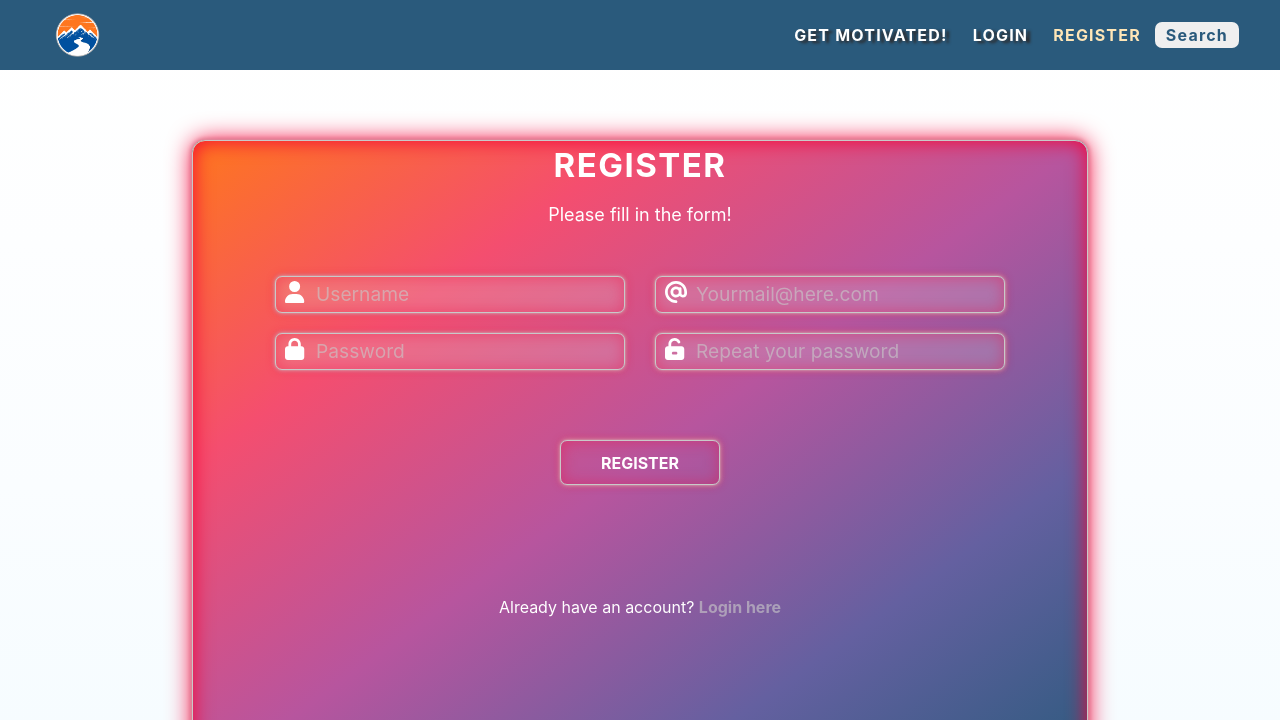
Test: Register Page Unhappy Paths › Show input validation errors on blur › username validation error #2 with more than 12 characters
The width and height of the screenshot is (1280, 720).
Step 1. Type "yellowjackets" into the field with placeholder "Username" → (450,295), box [275,276,625,313]
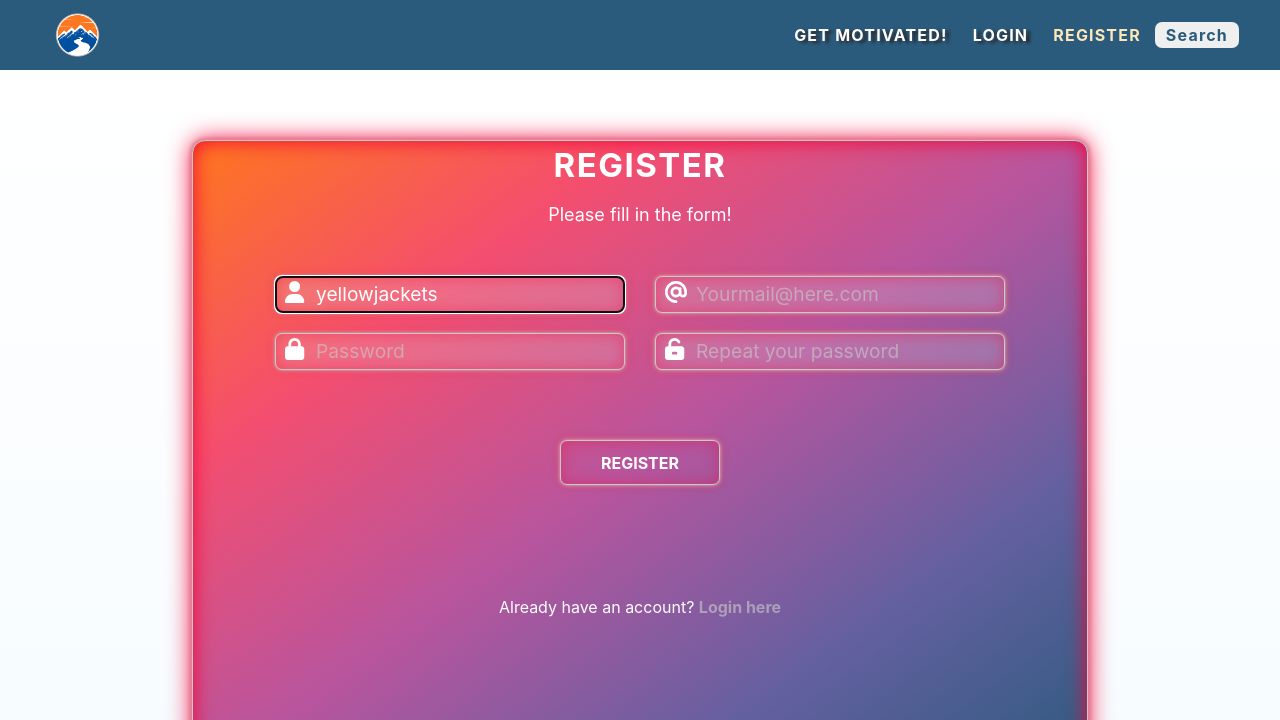
Step 2. Leave the 1st field, box [275,276,625,313]
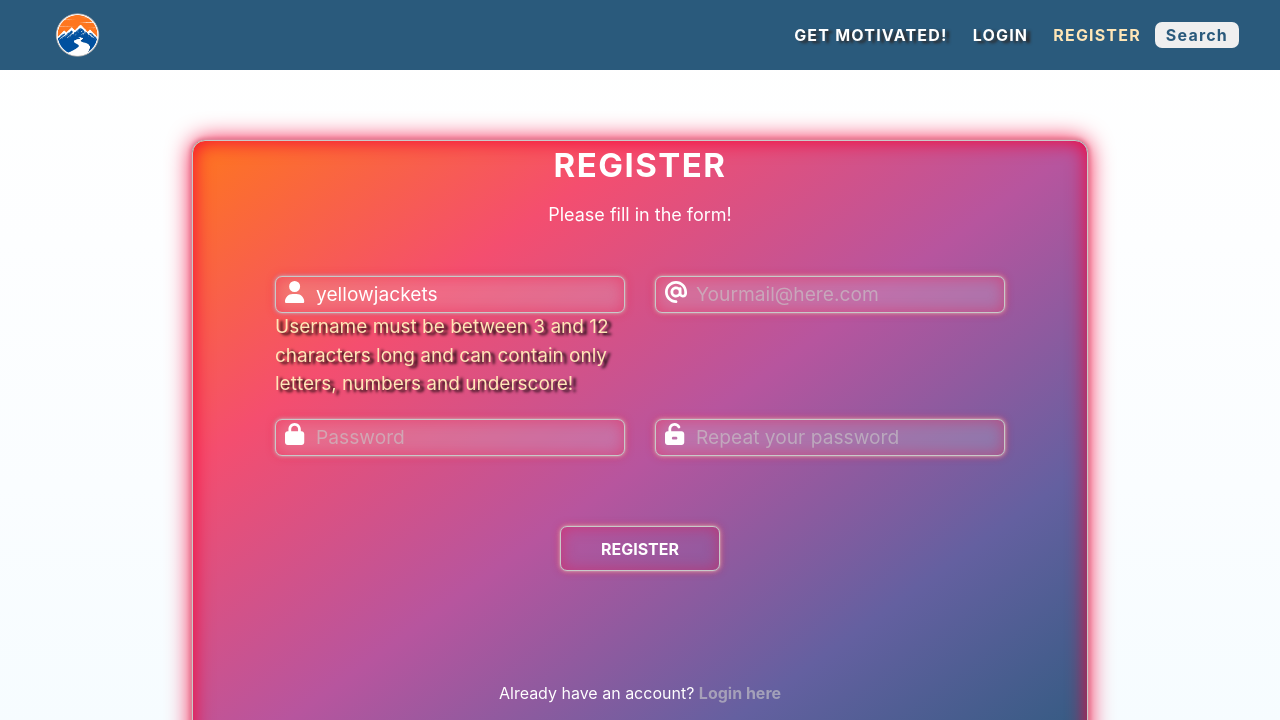
Expected: the text "Username must be between 3 and 12 characters long and can contain only letters, numbers and underscore!" is shown, [275,315,609,395]
